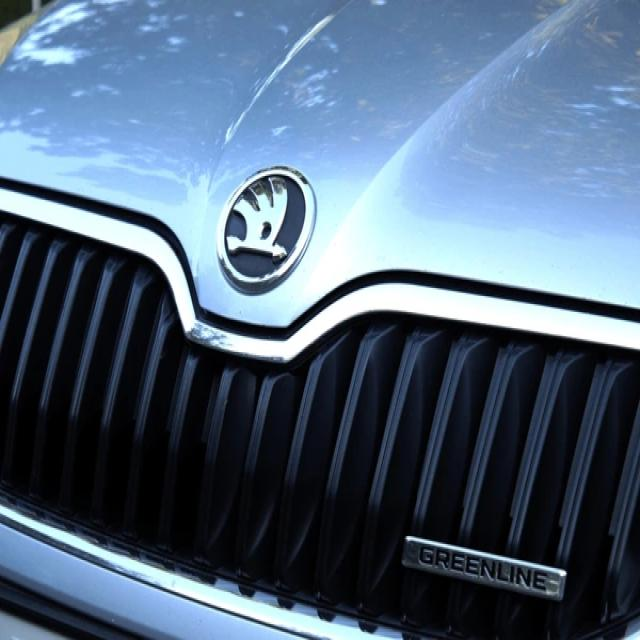skoda: (201, 164, 343, 293)
